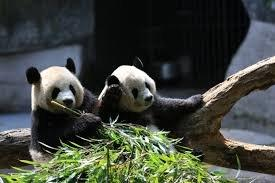bear: (98, 53, 205, 162), (26, 57, 100, 167)
